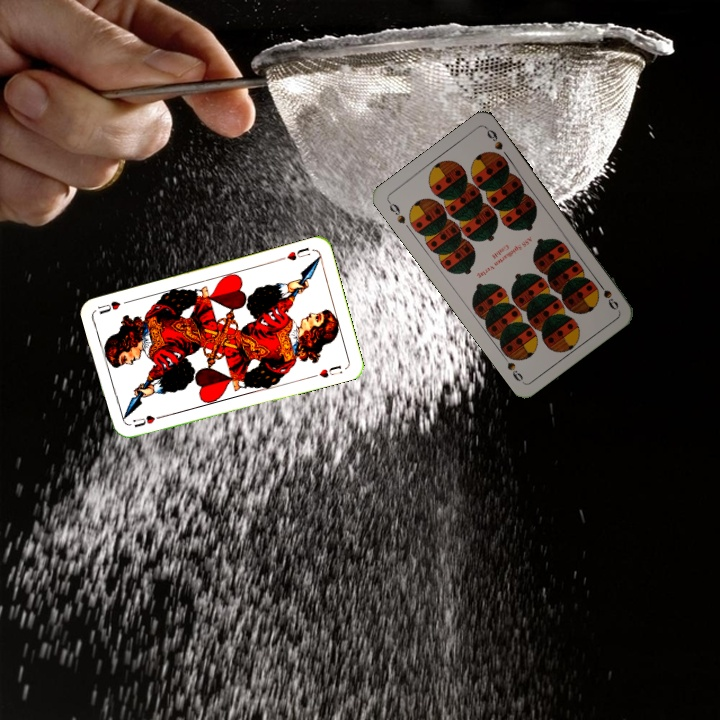HU: (276, 243, 313, 263), (129, 411, 157, 430)
S9: (593, 277, 621, 313), (384, 197, 408, 226)
